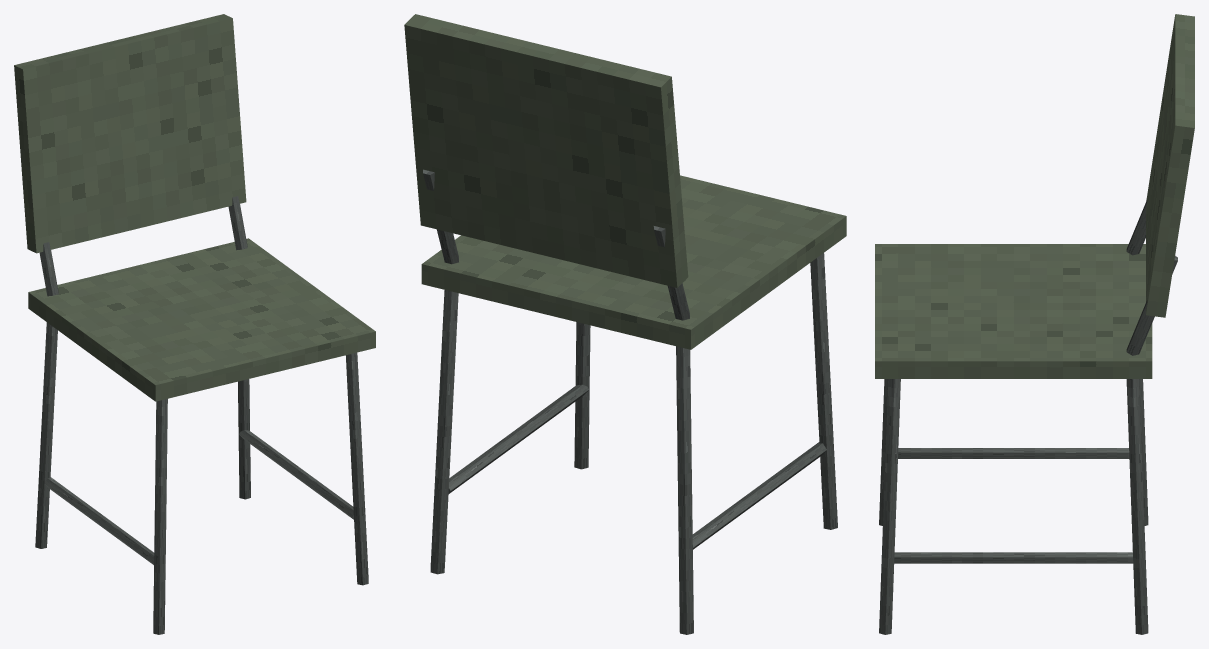
The model's file is chair.glb.
3 renders of one model, left to right at view 1: azimuth 30°, elevation 25°; view 2: azimuth 150°, elevation 25°; view 3: azimuth 270°, elevation 25°, orthographic. The views are drawn at different scales.
Visible parts, largest first — view 1: Chair; view 2: Chair; view 3: Chair.
Boxes of the visible parts, x1,y1,x2,y2 form: Chair: [14, 14, 375, 634]; Chair: [404, 14, 846, 634]; Chair: [875, 14, 1194, 634].
Bounding box in the file's own units: 0.42 × 0.8495 × 0.4844.
Materials: 2 (2 with a texture image).
